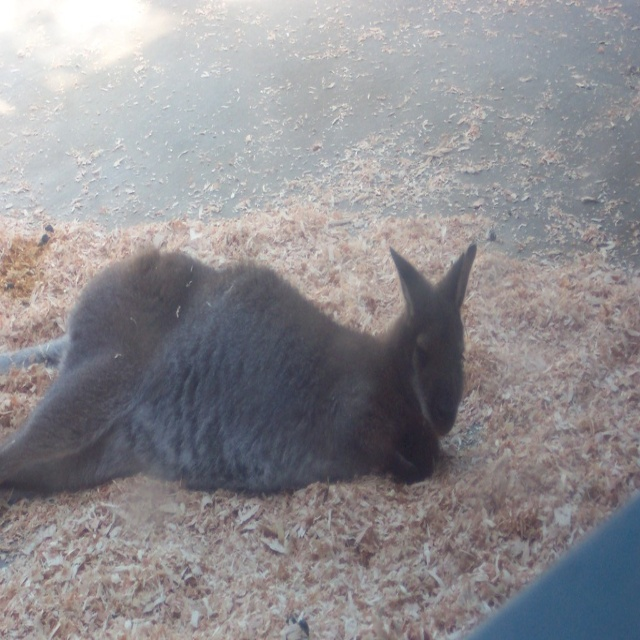Kangaroo: (0, 238, 480, 490)
